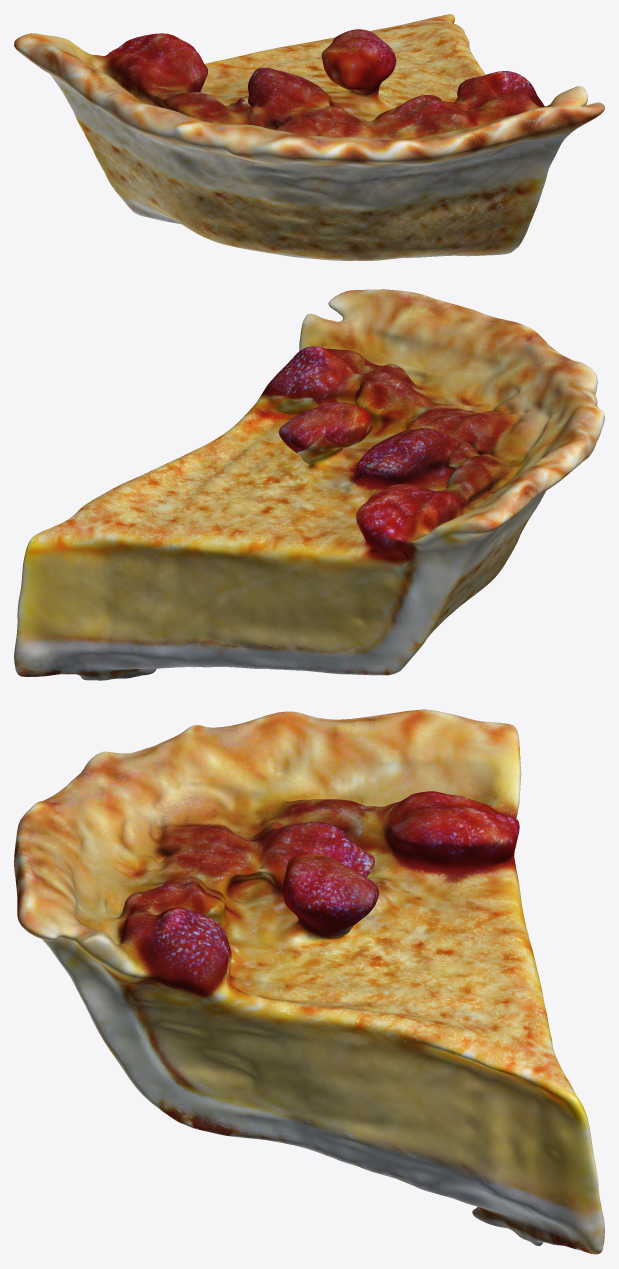
File: pie.glb
The picture shows the model from 3 angles, top to bottom: view 1: azimuth 30°, elevation 25°; view 2: azimuth 150°, elevation 25°; view 3: azimuth 270°, elevation 25°; orthographic projection. The views are drawn at different scales.
Visible parts, largest first — view 1: model; view 2: model; view 3: model.
Boxes of the visible parts, x1=… form: model: x1=14, y1=14, x2=604, y2=260; model: x1=14, y1=289, x2=604, y2=680; model: x1=14, y1=709, x2=604, y2=1254.
Bounding box in the file's own units: 1.46 × 0.8096 × 1.4.
1 material, 1 textured.
